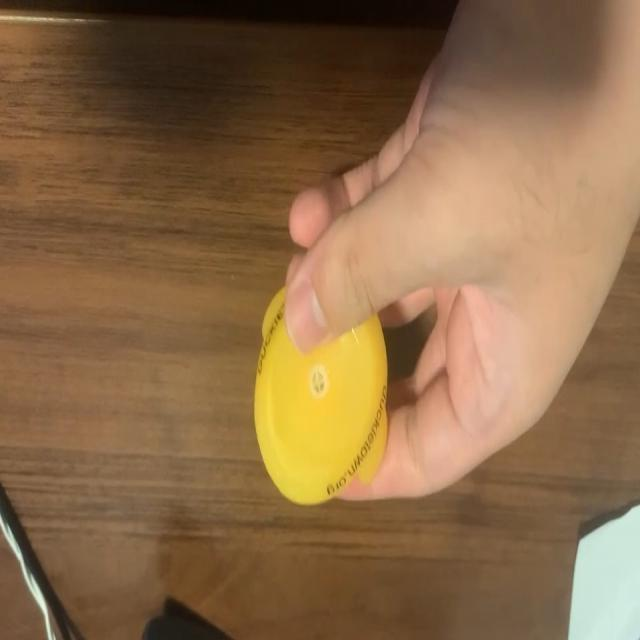rubber-duck: (253, 287, 385, 502)
